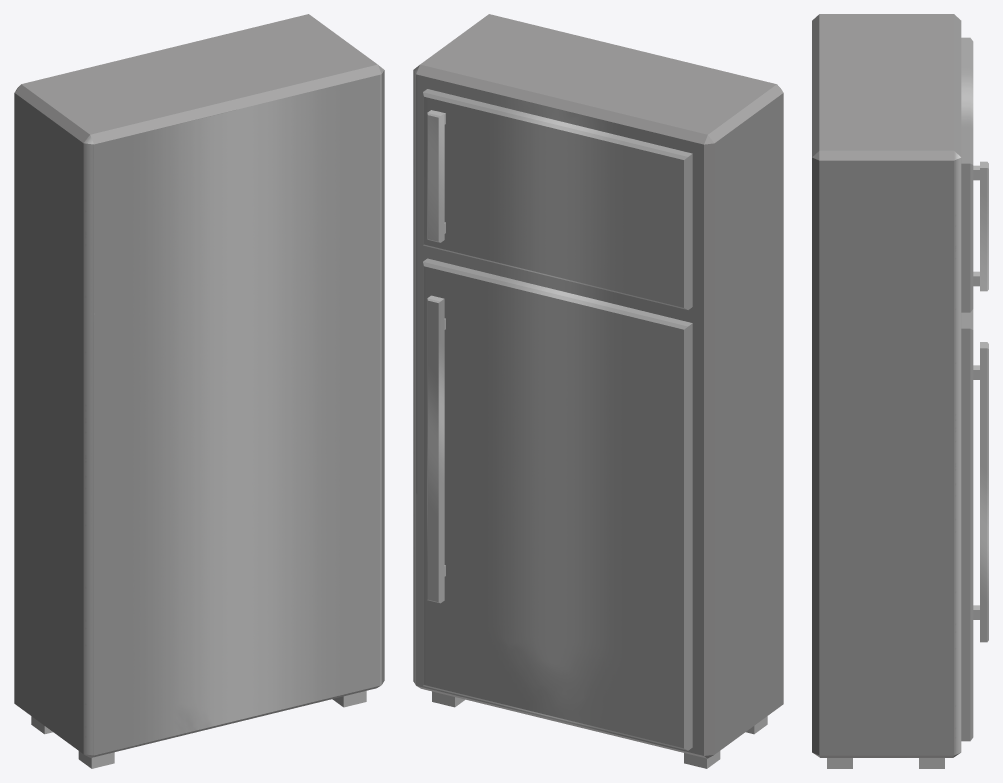
Rendered from Fridge.fbx.
3 views of the same model, side by side, from view 1: azimuth 30°, elevation 25°; view 2: azimuth 150°, elevation 25°; view 3: azimuth 270°, elevation 25° (orthographic). The views are drawn at different scales.
Parts seen in each view (by area): view 1: Fridge; view 2: Fridge; view 3: Fridge.
Part boxes in pixels (x1,y1,x2,y2): Fridge: (14, 14, 384, 768); Fridge: (413, 14, 783, 768); Fridge: (812, 14, 988, 768).
Bounding box in the file's own units: 106 × 215 × 55.43.
Materials: 1 (1 with a texture image).
